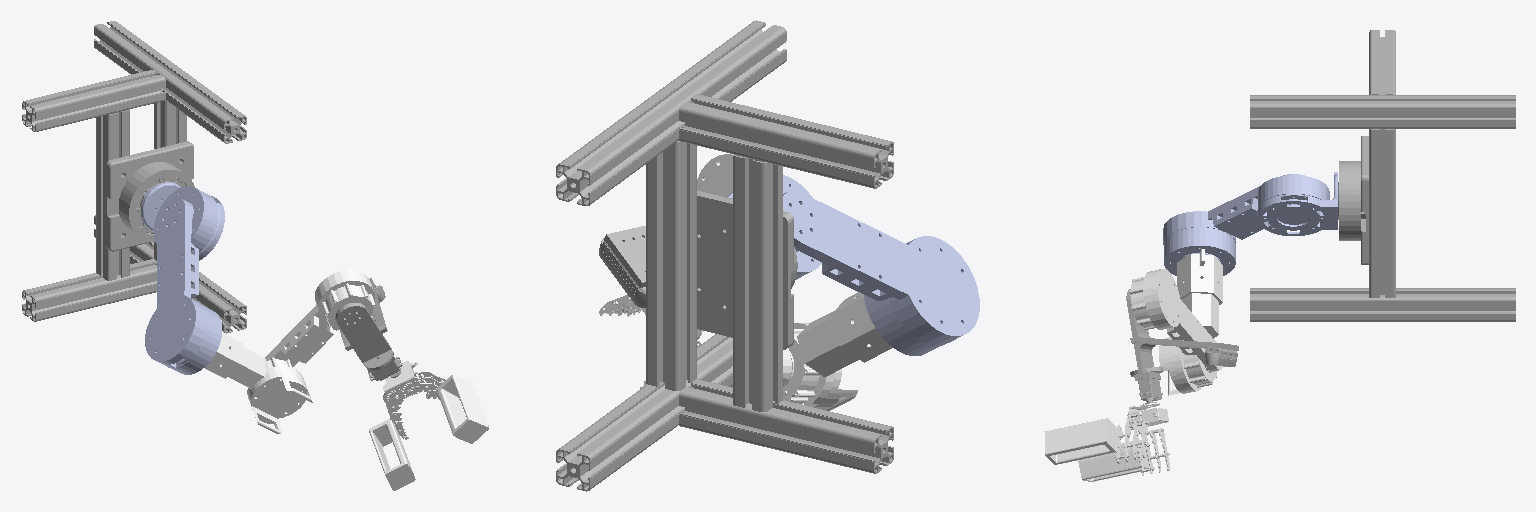
robot.urdf — arm_v2_tradition_new:
<?xml version="1.0" encoding="utf-8"?>
<!-- This URDF was automatically created by SolidWorks to URDF Exporter! Originally created by [author] ([email redacted]) 
     Commit Version: 1.6.0-4-g7f85cfe  Build Version: 1.6.7995.38578
     For more information, please see http://wiki.ros.org/sw_urdf_exporter -->
<robot
  name="arm_v2_tradition_new">
  <link
    name="base_link">
    <inertial>
      <origin
        xyz="-0.0655868705328245 -0.0118225931180281 0.176623781086346"
        rpy="0 0 0" />
      <mass
        value="1.52725102034946" />
      <inertia
        ixx="0.00915967326936823"
        ixy="2.52829070767211E-08"
        ixz="3.62782612990203E-07"
        iyy="0.0048306112120613"
        iyz="3.06385113848196E-08"
        izz="0.00816813437571118" />
    </inertial>
    <visual>
      <origin
        xyz="0 0 0"
        rpy="0 0 0" />
      <geometry>
        <mesh
          filename="package://arm_v2_tradition_new/meshes/base_link.STL" />
      </geometry>
      <material
        name="">
        <color
          rgba="0.752941176470588 0.752941176470588 0.752941176470588 1" />
      </material>
    </visual>
    <collision>
      <origin
        xyz="0 0 0"
        rpy="0 0 0" />
      <geometry>
        <mesh
          filename="package://arm_v2_tradition_new/meshes/base_link.STL" />
      </geometry>
    </collision>
  </link>
  <link
    name="link1">
    <inertial>
      <origin
        xyz="0.00327234377134179 0.0044317081845386 0.0520857987916406"
        rpy="0 0 0" />
      <mass
        value="0.327449747968631" />
      <inertia
        ixx="0.000407199195617655"
        ixy="8.41547876376143E-05"
        ixz="-1.91608512493457E-05"
        iyy="0.000461385761433655"
        iyz="-2.68911522357224E-05"
        izz="0.000254478394958666" />
    </inertial>
    <visual>
      <origin
        xyz="0 0 0"
        rpy="0 0 0" />
      <geometry>
        <mesh
          filename="package://arm_v2_tradition_new/meshes/link1.STL" />
      </geometry>
      <material
        name="">
        <color
          rgba="0.792156862745098 0.819607843137255 0.933333333333333 1" />
      </material>
    </visual>
    <collision>
      <origin
        xyz="0 0 0"
        rpy="0 0 0" />
      <geometry>
        <mesh
          filename="package://arm_v2_tradition_new/meshes/link1.STL" />
      </geometry>
    </collision>
  </link>
  <joint
    name="joint1"
    type="continuous">
    <origin
      xyz="-0.066329 -0.0735 0.16917"
      rpy="1.5708 1.5708 0" />
    <parent
      link="base_link" />
    <child
      link="link1" />
    <axis
      xyz="0 0 1" />
    <limit
      lower="0"
      upper="70"
      effort="0"
      velocity="0" />
  </joint>
  <link
    name="link2">
    <inertial>
      <origin
        xyz="0.115094236742546 0.114567189746321 0.0240779708348293"
        rpy="0 0 0" />
      <mass
        value="0.5905823212079" />
      <inertia
        ixx="0.00129412176402247"
        ixy="-0.000896194302915067"
        ixz="3.19886655622726E-05"
        iyy="0.00130091409042911"
        iyz="3.18115509053627E-05"
        izz="0.00254552591440064" />
    </inertial>
    <visual>
      <origin
        xyz="0 0 0"
        rpy="0 0 0" />
      <geometry>
        <mesh
          filename="package://arm_v2_tradition_new/meshes/link2.STL" />
      </geometry>
      <material
        name="">
        <color
          rgba="0.792156862745098 0.819607843137255 0.933333333333333 1" />
      </material>
    </visual>
    <collision>
      <origin
        xyz="0 0 0"
        rpy="0 0 0" />
      <geometry>
        <mesh
          filename="package://arm_v2_tradition_new/meshes/link2.STL" />
      </geometry>
    </collision>
  </link>
  <joint
    name="joint2"
    type="continuous">
    <origin
      xyz="0.01028 0.014108 0.06"
      rpy="1.5708 0 -0.62971" />
    <parent
      link="link1" />
    <child
      link="link2" />
    <axis
      xyz="0 0 1" />
    <limit
      lower="0"
      upper="80"
      effort="0"
      velocity="0" />
  </joint>
  <link
    name="link3">
    <inertial>
      <origin
        xyz="0.00271440711857006 0.00635464821816789 0.106976049439956"
        rpy="0 0 0" />
      <mass
        value="0.529206731214125" />
      <inertia
        ixx="0.000777335730250008"
        ixy="3.15528122567767E-05"
        ixz="-3.29830840743351E-05"
        iyy="0.0008459264207826"
        iyz="-6.87075139266025E-05"
        izz="0.000282894069433199" />
    </inertial>
    <visual>
      <origin
        xyz="0 0 0"
        rpy="0 0 0" />
      <geometry>
        <mesh
          filename="package://arm_v2_tradition_new/meshes/link3.STL" />
      </geometry>
      <material
        name="">
        <color
          rgba="1 1 1 1" />
      </material>
    </visual>
    <collision>
      <origin
        xyz="0 0 0"
        rpy="0 0 0" />
      <geometry>
        <mesh
          filename="package://arm_v2_tradition_new/meshes/link3.STL" />
      </geometry>
    </collision>
  </link>
  <joint
    name="joint3"
    type="continuous">
    <origin
      xyz="0.14172 0.14114 -0.013"
      rpy="3.1416 0 2.3541" />
    <parent
      link="link2" />
    <child
      link="link3" />
    <axis
      xyz="0 0 1" />
    <limit
      lower="-150"
      upper="0"
      effort="0"
      velocity="0" />
  </joint>
  <link
    name="link4">
    <inertial>
      <origin
        xyz="0.00737716518580428 0.142781771311515 0.0237305033003659"
        rpy="0 0 0" />
      <mass
        value="0.332921177584602" />
      <inertia
        ixx="0.00101302253042372"
        ixy="-4.77624589588551E-05"
        ixz="9.23667468161001E-07"
        iyy="0.000132450931783164"
        iyz="1.66654285509733E-05"
        izz="0.00112416427609377" />
    </inertial>
    <visual>
      <origin
        xyz="0 0 0"
        rpy="0 0 0" />
      <geometry>
        <mesh
          filename="package://arm_v2_tradition_new/meshes/link4.STL" />
      </geometry>
      <material
        name="">
        <color
          rgba="1 1 1 1" />
      </material>
    </visual>
    <collision>
      <origin
        xyz="0 0 0"
        rpy="0 0 0" />
      <geometry>
        <mesh
          filename="package://arm_v2_tradition_new/meshes/link4.STL" />
      </geometry>
    </collision>
  </link>
  <joint
    name="joint4"
    type="continuous">
    <origin
      xyz="0.0046348 0.011891 0.165"
      rpy="1.9429 1.5708 0" />
    <parent
      link="link3" />
    <child
      link="link4" />
    <axis
      xyz="0 0 -1" />
    <limit
      lower="0"
      upper="135"
      effort="0"
      velocity="0" />
  </joint>
  <link
    name="link5">
    <inertial>
      <origin
        xyz="0.091958235846498 -0.0412470177237204 -0.117211510516362"
        rpy="0 0 0" />
      <mass
        value="1.41378179864405" />
      <inertia
        ixx="0.00100172297391169"
        ixy="-0.00021932867648872"
        ixz="7.27994132473293E-05"
        iyy="0.000626115907066696"
        iyz="-3.42400605064351E-05"
        izz="0.000933821788544631" />
    </inertial>
    <visual>
      <origin
        xyz="0 0 0"
        rpy="0 0 0" />
      <geometry>
        <mesh
          filename="package://arm_v2_tradition_new/meshes/link5.STL" />
      </geometry>
      <material
        name="">
        <color
          rgba="0.752941176470588 0.752941176470588 0.752941176470588 1" />
      </material>
    </visual>
    <collision>
      <origin
        xyz="0 0 0"
        rpy="0 0 0" />
      <geometry>
        <mesh
          filename="package://arm_v2_tradition_new/meshes/link5.STL" />
      </geometry>
    </collision>
  </link>
  <joint
    name="joint5"
    type="continuous">
    <origin
      xyz="0.0094747 0.17975 -0.0175"
      rpy="3.1416 0 -3.1416" />
    <parent
      link="link4" />
    <child
      link="link5" />
    <axis
      xyz="0 0 -1" />
    <limit
      lower="0"
      upper="135"
      effort="0"
      velocity="0" />
  </joint>
  <link
    name="link6">
    <inertial>
      <origin
        xyz="0.00173789641717786 0.00483872721915884 0.018178353351637"
        rpy="0 0 0" />
      <mass
        value="0.0405664939662576" />
      <inertia
        ixx="6.78143900654852E-06"
        ixy="-3.77391715955269E-07"
        ixz="2.45552285693951E-07"
        iyy="7.77337838207447E-06"
        iyz="-3.40288546898042E-07"
        izz="1.09288836816866E-05" />
    </inertial>
    <visual>
      <origin
        xyz="0 0 0"
        rpy="0 0 0" />
      <geometry>
        <mesh
          filename="package://arm_v2_tradition_new/meshes/link6.STL" />
      </geometry>
      <material
        name="">
        <color
          rgba="1 1 1 1" />
      </material>
    </visual>
    <collision>
      <origin
        xyz="0 0 0"
        rpy="0 0 0" />
      <geometry>
        <mesh
          filename="package://arm_v2_tradition_new/meshes/link6.STL" />
      </geometry>
    </collision>
  </link>
  <joint
    name="joint6"
    type="continuous">
    <origin
      xyz="0.1448 -0.052861 -0.0047173"
      rpy="1.5708 0.38406 1.1588" />
    <parent
      link="link5" />
    <child
      link="link6" />
    <axis
      xyz="0 0 1" />
  </joint>
  <link
    name="link7">
    <inertial>
      <origin
        xyz="0.0285538375030852 -0.0200442689037915 0.0575376388660215"
        rpy="0 0 0" />
      <mass
        value="0.17289002712106" />
      <inertia
        ixx="0.000215457547497857"
        ixy="-2.54954380173942E-06"
        ixz="2.35575773110335E-07"
        iyy="0.000203737220066812"
        iyz="-4.9308207703479E-08"
        izz="6.50304725552542E-05" />
    </inertial>
    <visual>
      <origin
        xyz="0 0 0"
        rpy="0 0 0" />
      <geometry>
        <mesh
          filename="package://arm_v2_tradition_new/meshes/link7.STL" />
      </geometry>
      <material
        name="">
        <color
          rgba="1 1 1 1" />
      </material>
    </visual>
    <collision>
      <origin
        xyz="0 0 0"
        rpy="0 0 0" />
      <geometry>
        <mesh
          filename="package://arm_v2_tradition_new/meshes/link7.STL" />
      </geometry>
    </collision>
  </link>
  <joint
    name="joint7"
    type="continuous">
    <origin
      xyz="0.0028637 0.030279 0.0195"
      rpy="-1.5708 -1.1588 0.38406" />
    <parent
      link="link6" />
    <child
      link="link7" />
    <axis
      xyz="0 0 1" />
  </joint>
</robot>

--- What the picture shows (computed from the rendered views, not written in the file) ---
3 views of the same robot in one strip: view 1: azimuth 30°, elevation 25°; view 2: azimuth 150°, elevation 25°; view 3: azimuth 270°, elevation 25° (orthographic).
Model arm_v2_tradition_new with 8 links and 7 joints (7 continuous), rooted at base_link, posed all joints at 0.
Visible links, largest first — view 1: base_link, link2, link7, link3, link4, link5, link1, link6; view 2: base_link, link2, link3, link5, link4, link1, link7; view 3: base_link, link7, link2, link3, link1, link4, link5, link6.
Link boxes in pixels (left/top/right/bottom): base_link: left=22, top=21, right=246, bottom=333; link2: left=145, top=197, right=221, bottom=374; link7: left=369, top=371, right=488, bottom=490; link3: left=205, top=320, right=312, bottom=433; link4: left=265, top=270, right=375, bottom=366; link5: left=335, top=278, right=402, bottom=380; link1: left=141, top=182, right=224, bottom=260; link6: left=383, top=361, right=424, bottom=403; base_link: left=556, top=20, right=893, bottom=491; link2: left=783, top=191, right=979, bottom=355; link3: left=783, top=292, right=892, bottom=410; link5: left=599, top=226, right=645, bottom=307; link4: left=697, top=154, right=791, bottom=384; link1: left=727, top=175, right=821, bottom=279; link7: left=599, top=294, right=732, bottom=388; base_link: left=1250, top=30, right=1515, bottom=321; link7: left=1045, top=412, right=1169, bottom=481; link2: left=1163, top=174, right=1304, bottom=275; link3: left=1159, top=249, right=1222, bottom=395; link1: left=1257, top=172, right=1337, bottom=235; link4: left=1129, top=269, right=1222, bottom=371; link5: left=1126, top=289, right=1238, bottom=404; link6: left=1128, top=403, right=1168, bottom=430.
Size in the robot's own frame: 0.5449 by 0.7083 by 0.5676 metres.
Meshes: 8 distinct files referenced, 8 mesh visuals loaded (8 binary STL).